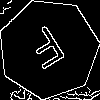F: (23, 23, 73, 79)
